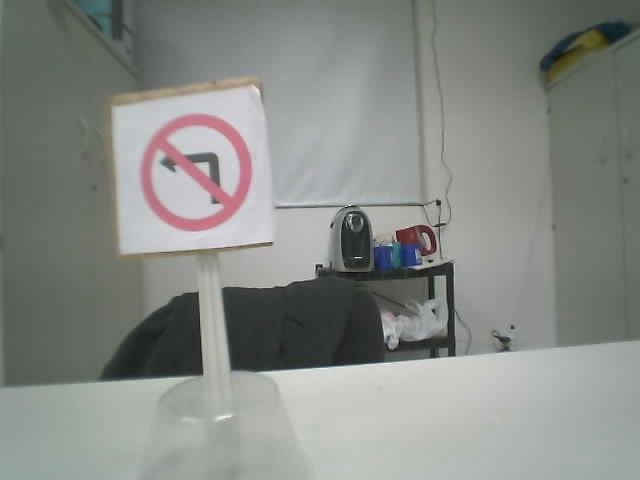R-4a_proibido-esquerda: (140, 112, 252, 231)
